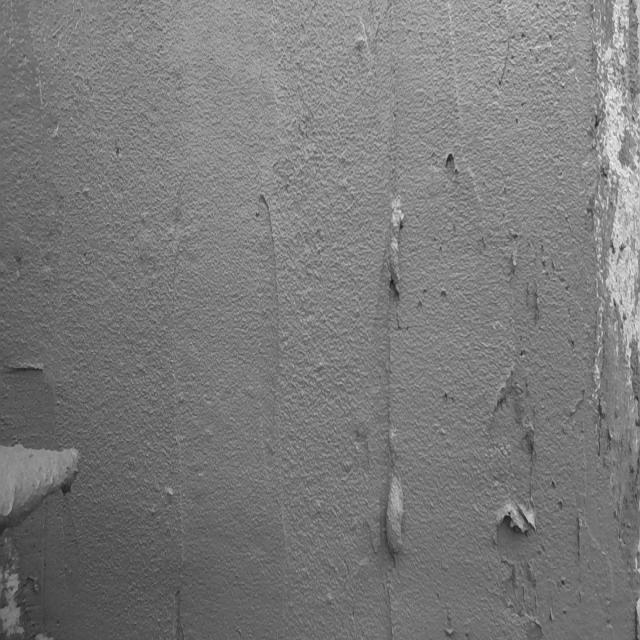trowels marks: (378, 175, 413, 595), (484, 367, 544, 585), (526, 242, 550, 326), (437, 145, 460, 189)
